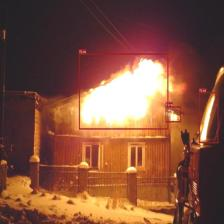fire: (79, 53, 168, 130), (199, 92, 218, 143), (165, 106, 181, 122)
